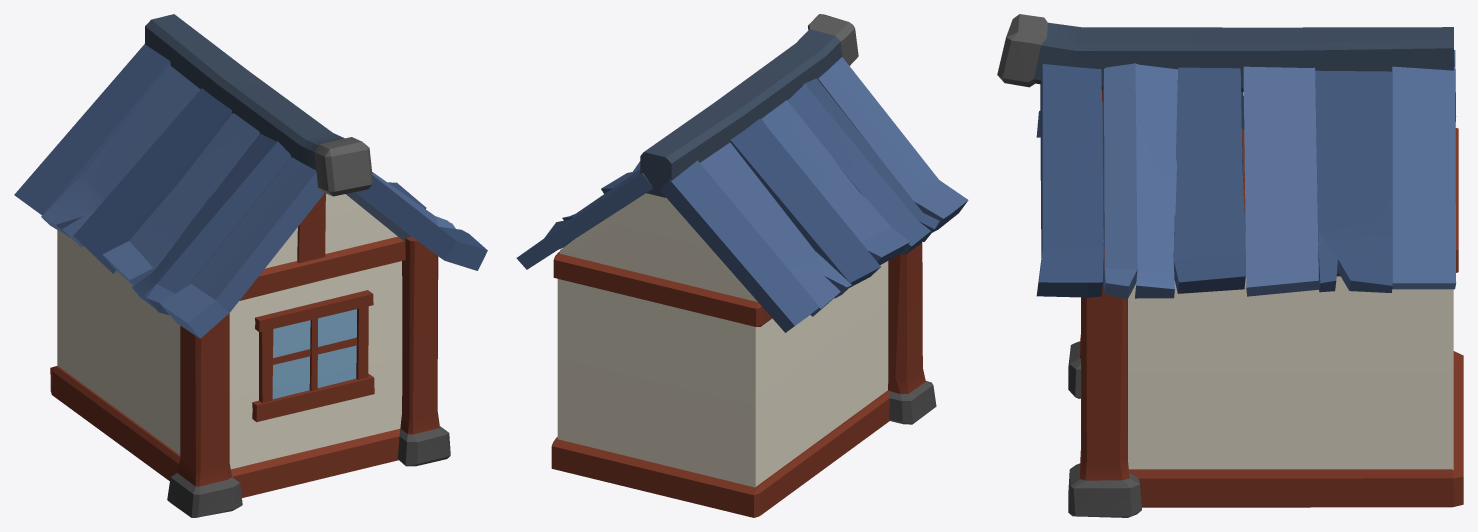
Rendered from House_1Floor_Side_D.fbx.
3 views of the same model, side by side, from view 1: azimuth 30°, elevation 25°; view 2: azimuth 150°, elevation 25°; view 3: azimuth 270°, elevation 25° (orthographic). The views are drawn at different scales.
Visible parts, largest first — view 1: House_1Floor_Side_D; view 2: House_1Floor_Side_D; view 3: House_1Floor_Side_D.
Part boxes in pixels (bbox=[...]): House_1Floor_Side_D: bbox=[14, 14, 487, 517]; House_1Floor_Side_D: bbox=[516, 14, 968, 517]; House_1Floor_Side_D: bbox=[997, 14, 1463, 517].
Size of the model in its own units: 254 by 288 by 287.
